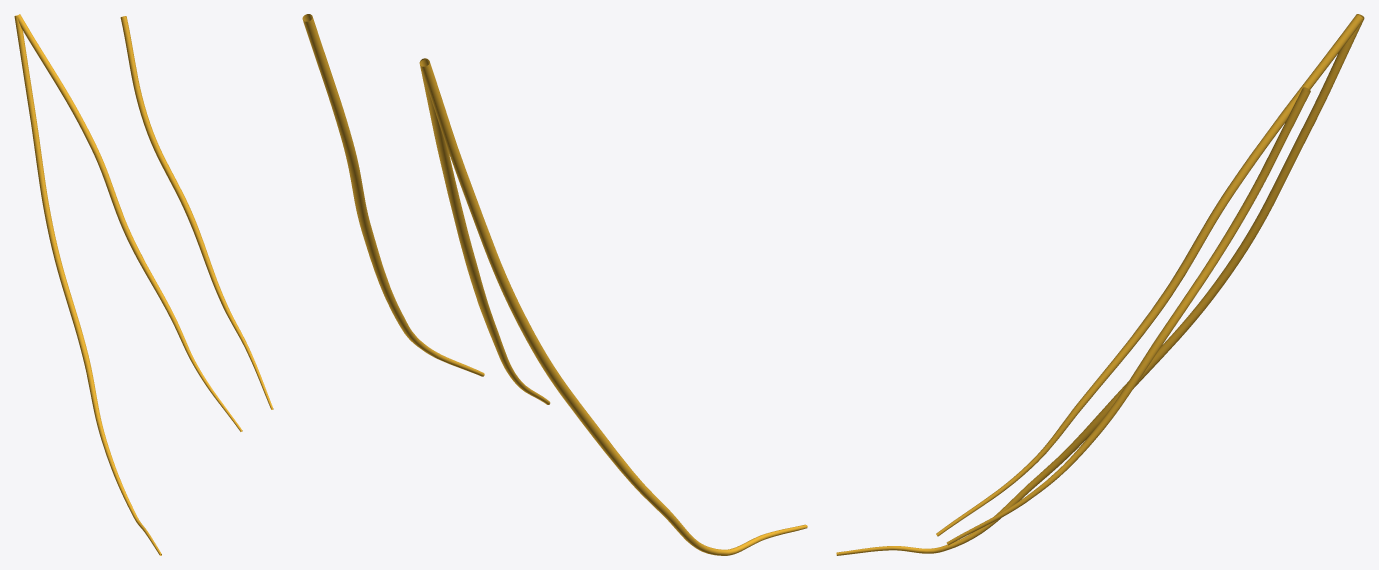
The model's file is nervoso-dorsal-digital-branches-of-ulnar-nerve-r.glb.
3 renders of one model, left to right at view 1: azimuth 30°, elevation 25°; view 2: azimuth 150°, elevation 25°; view 3: azimuth 270°, elevation 25°, orthographic. The views are drawn at different scales.
Parts seen in each view (by area): view 1: Dorsal digital branches of ulnar nerve.r; view 2: Dorsal digital branches of ulnar nerve.r; view 3: Dorsal digital branches of ulnar nerve.r.
Boxes of the visible parts, left/top/right/bottom form: Dorsal digital branches of ulnar nerve.r: left=14, top=14, right=273, bottom=555; Dorsal digital branches of ulnar nerve.r: left=302, top=14, right=807, bottom=555; Dorsal digital branches of ulnar nerve.r: left=836, top=14, right=1364, bottom=555.
Size of the model in its own units: 0.0292 by 0.0703 by 0.0591.
